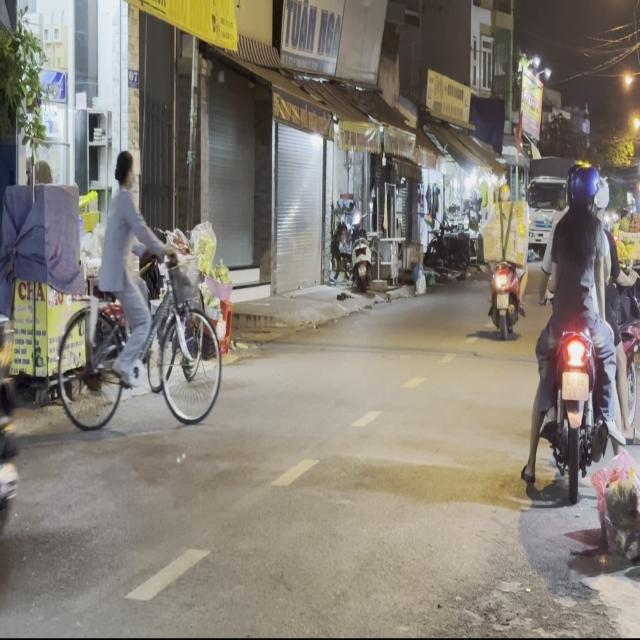helmet: (566, 161, 596, 210)
licenseplate: (523, 153, 636, 498), (0, 98, 27, 618)
nohelmet: (562, 371, 588, 398)
